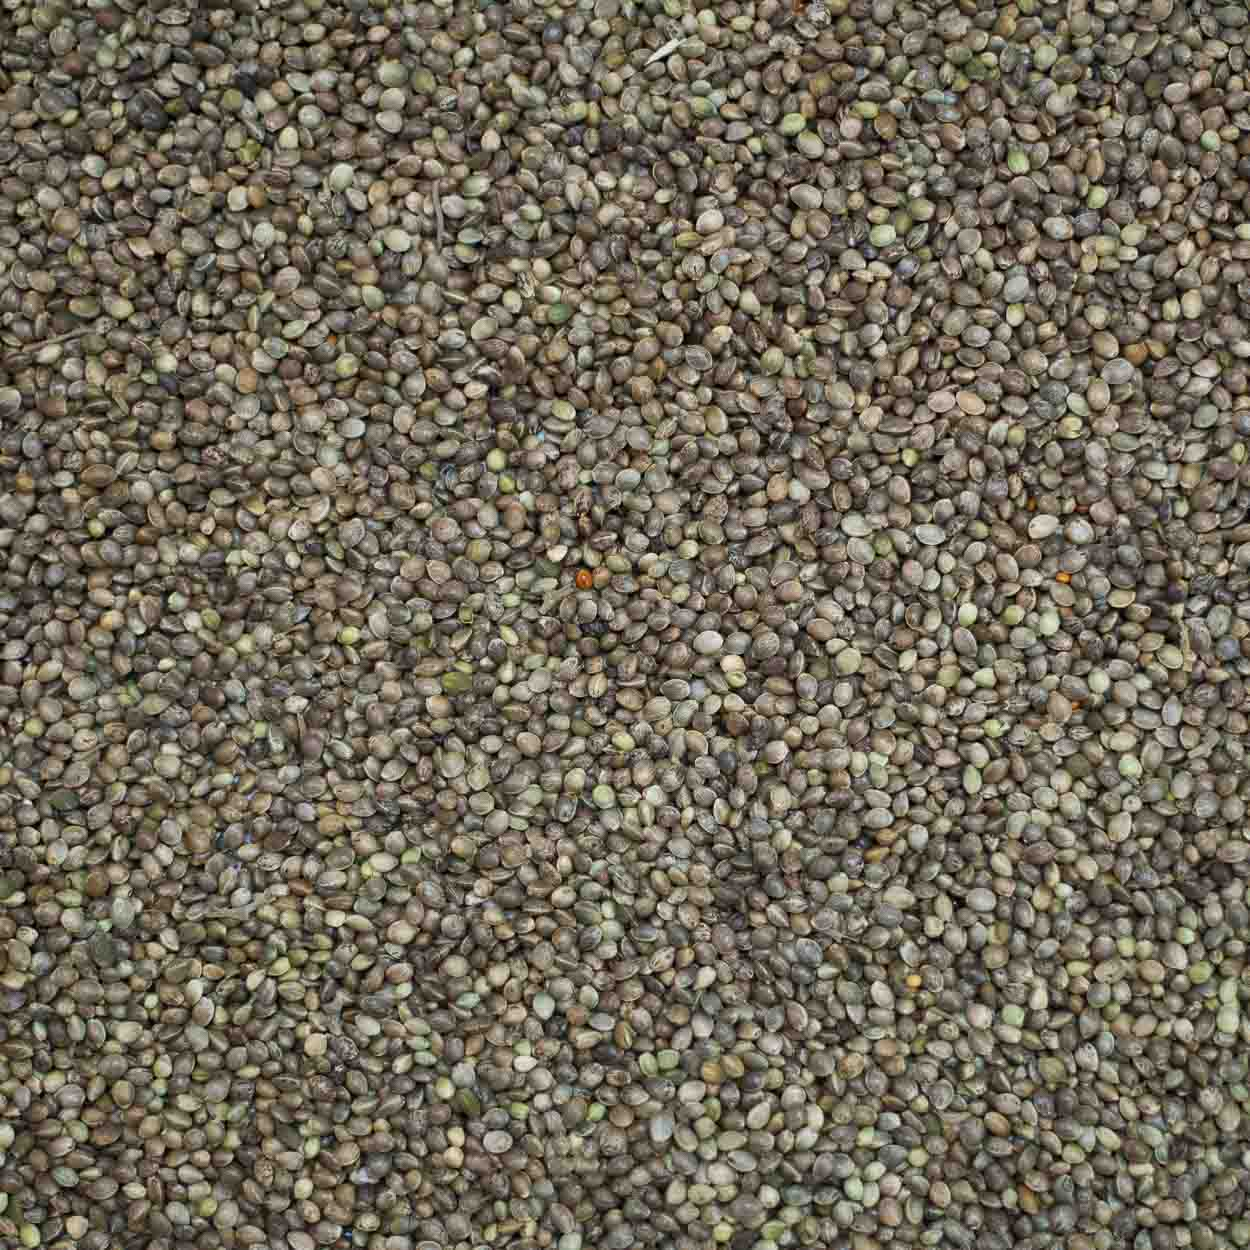seed: (1, 1, 1250, 1250)
